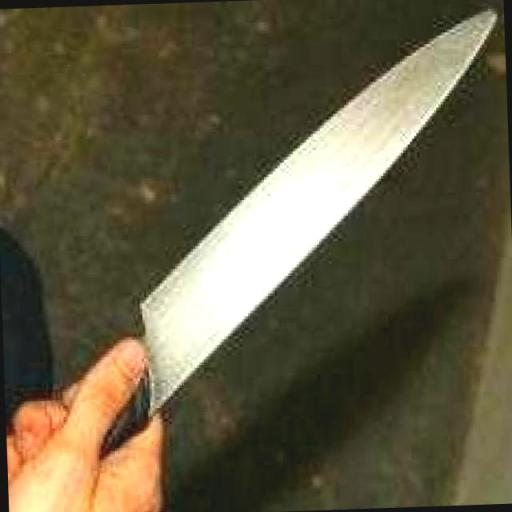knife: (45, 2, 512, 483)
